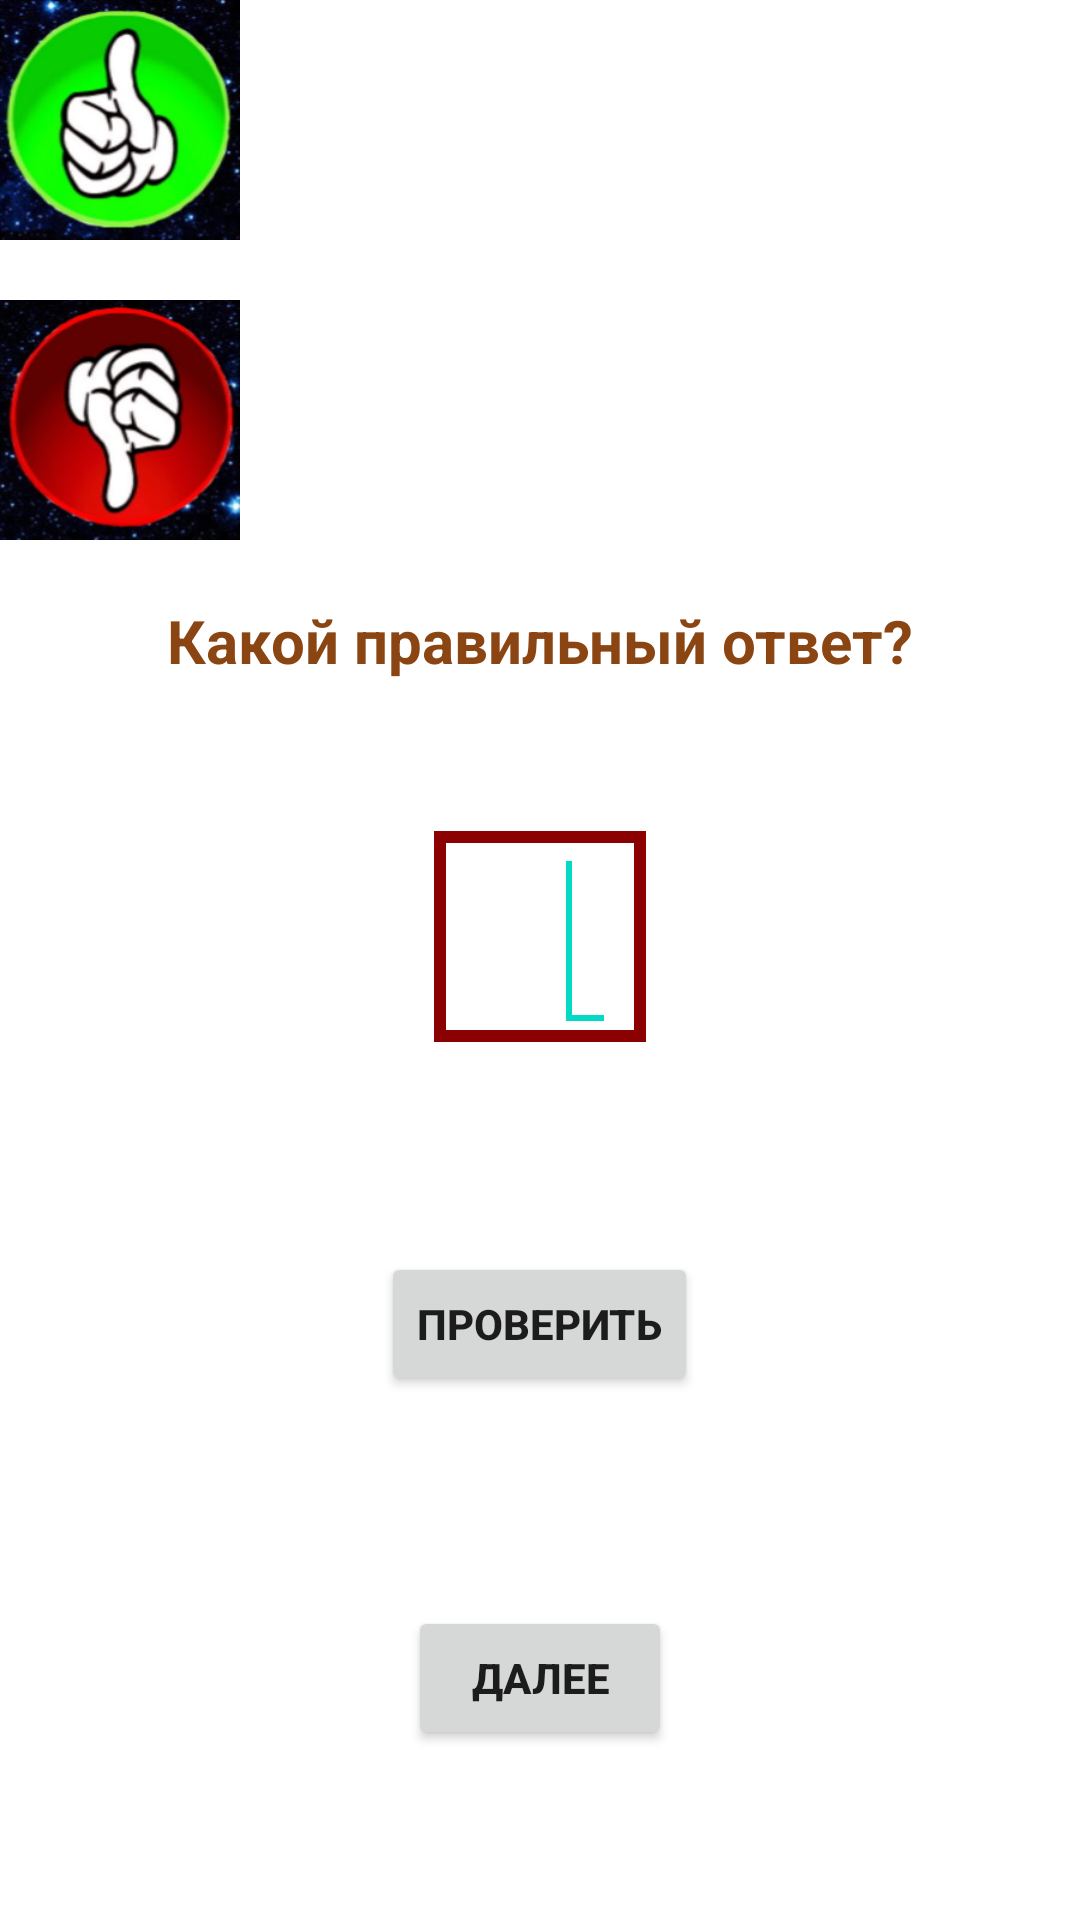

Screen size 1080 × 1920. Icon name, then its box in pixels as {"x1": x1, "y1": y1, "x2": x2, "y2": y2}:
down: {"x1": 0, "y1": 300, "x2": 240, "y2": 540}
